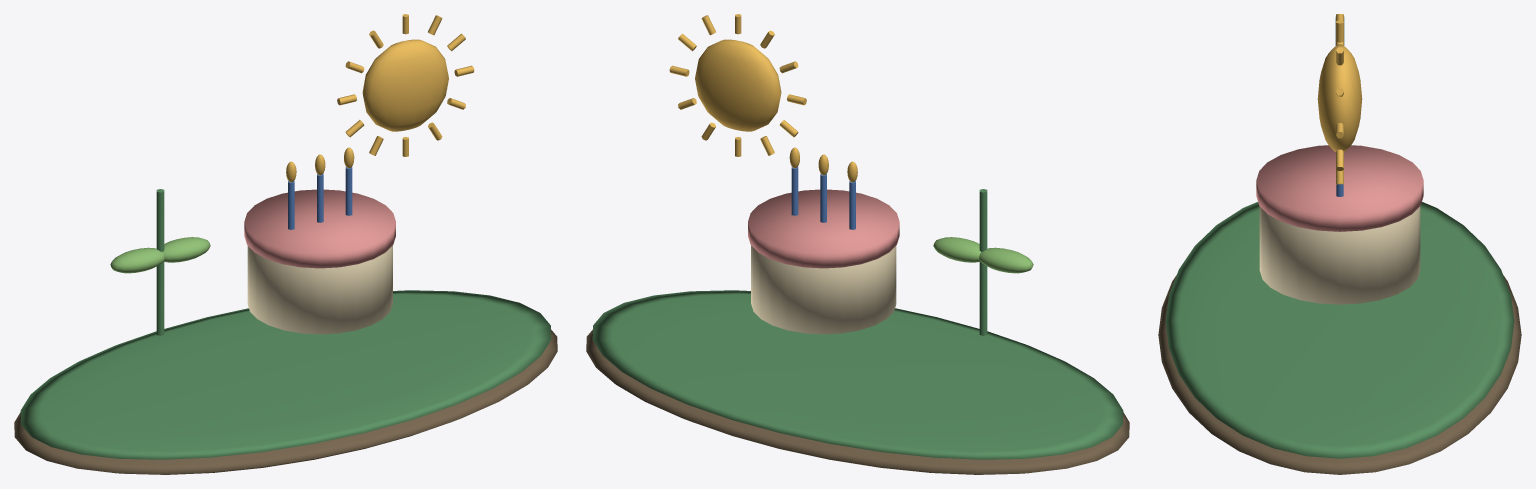
Rendered from growing-birthday.glb.
3 renders of one model, left to right at view 1: azimuth 30°, elevation 25°; view 2: azimuth 150°, elevation 25°; view 3: azimuth 270°, elevation 25°, orthographic. The views are drawn at different scales.
Parts seen in each view (by area): view 1: growing-birthday_surface_01, growing-birthday_surface_04, growing-birthday_surface_05, growing-birthday_surface_00, growing-birthday_surface_03, growing-birthday_surface_02, growing-birthday_surface_06; view 2: growing-birthday_surface_01, growing-birthday_surface_04, growing-birthday_surface_05, growing-birthday_surface_00, growing-birthday_surface_03, growing-birthday_surface_02, growing-birthday_surface_06; view 3: growing-birthday_surface_01, growing-birthday_surface_04, growing-birthday_surface_05, growing-birthday_surface_00, growing-birthday_surface_03.
Part boxes in pixels (x1,y1,x2,y2): growing-birthday_surface_01: (20, 189, 551, 459); growing-birthday_surface_04: (247, 245, 392, 334); growing-birthday_surface_05: (244, 189, 395, 268); growing-birthday_surface_00: (14, 329, 557, 474); growing-birthday_surface_03: (286, 14, 474, 182); growing-birthday_surface_02: (110, 237, 210, 273); growing-birthday_surface_06: (288, 167, 352, 229); growing-birthday_surface_01: (592, 189, 1123, 459); growing-birthday_surface_04: (751, 245, 896, 334); growing-birthday_surface_05: (748, 189, 899, 268); growing-birthday_surface_00: (586, 329, 1129, 474); growing-birthday_surface_03: (669, 14, 857, 182); growing-birthday_surface_02: (933, 237, 1033, 273); growing-birthday_surface_06: (791, 167, 855, 229); growing-birthday_surface_01: (1165, 16, 1514, 458); growing-birthday_surface_04: (1259, 206, 1420, 304); growing-birthday_surface_05: (1256, 145, 1423, 231); growing-birthday_surface_00: (1158, 275, 1521, 474); growing-birthday_surface_03: (1317, 14, 1362, 184).
Size of the model in its own units: 4.56 by 3 by 2.5.
